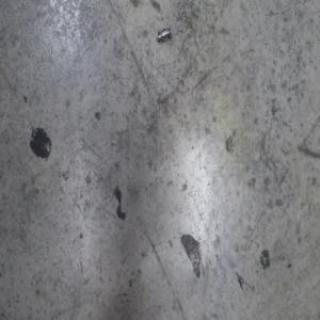Bolttrack_idkeyframe: (156, 24, 172, 43)
